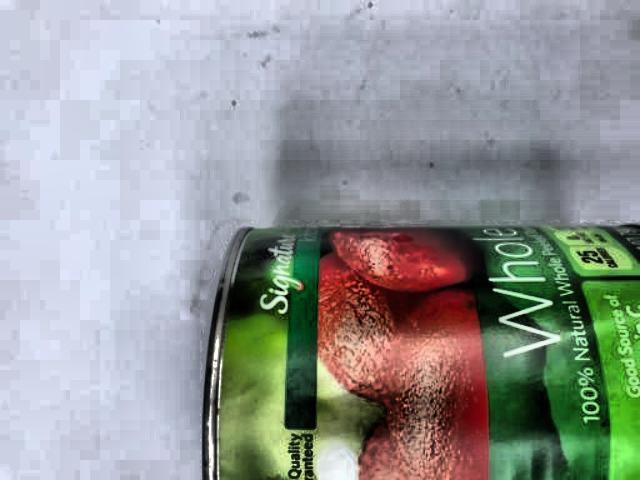Almennt: (176, 182, 640, 480)
